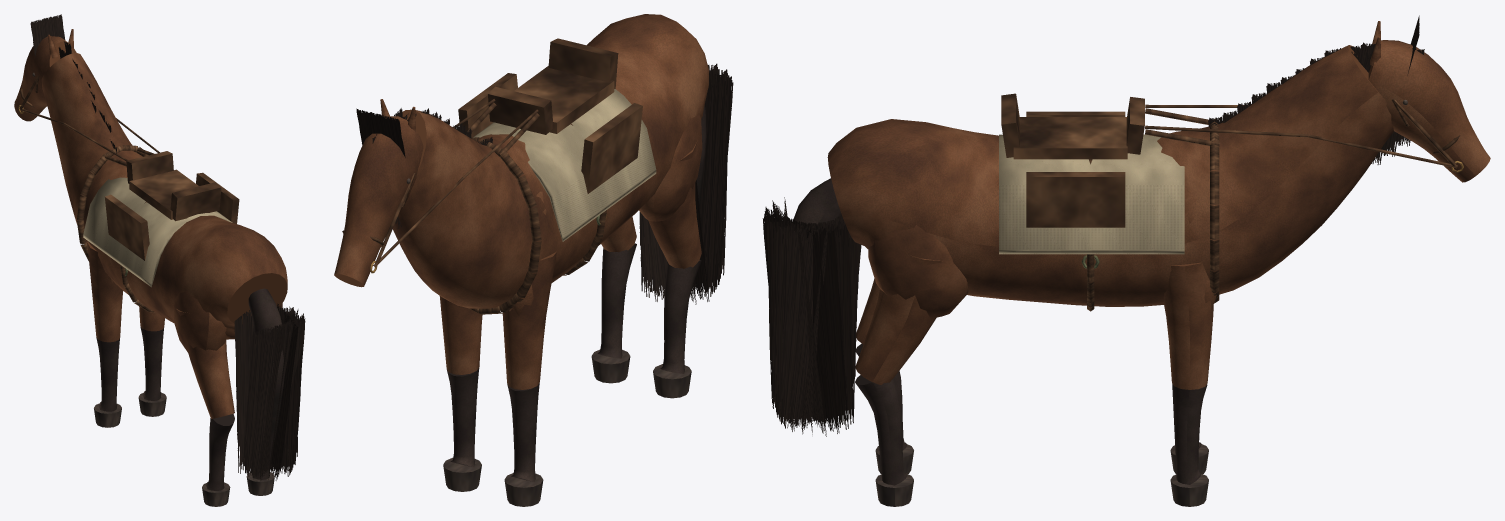
Rendered from cavallo_sellato.gltf.
3 views of the same model, side by side, from view 1: azimuth 30°, elevation 25°; view 2: azimuth 150°, elevation 25°; view 3: azimuth 270°, elevation 25° (orthographic). The views are drawn at different scales.
Parts seen in each view (by area): view 1: cavallo_sellato; view 2: cavallo_sellato; view 3: cavallo_sellato.
Boxes of the visible parts, box(x1,y1,x2,y2) form: cavallo_sellato: box(14, 14, 305, 506); cavallo_sellato: box(334, 14, 733, 506); cavallo_sellato: box(762, 15, 1490, 506).
Size of the model in its own units: 0.6249 by 2.05 by 2.94.
Materials: 7 (7 with a texture image).
